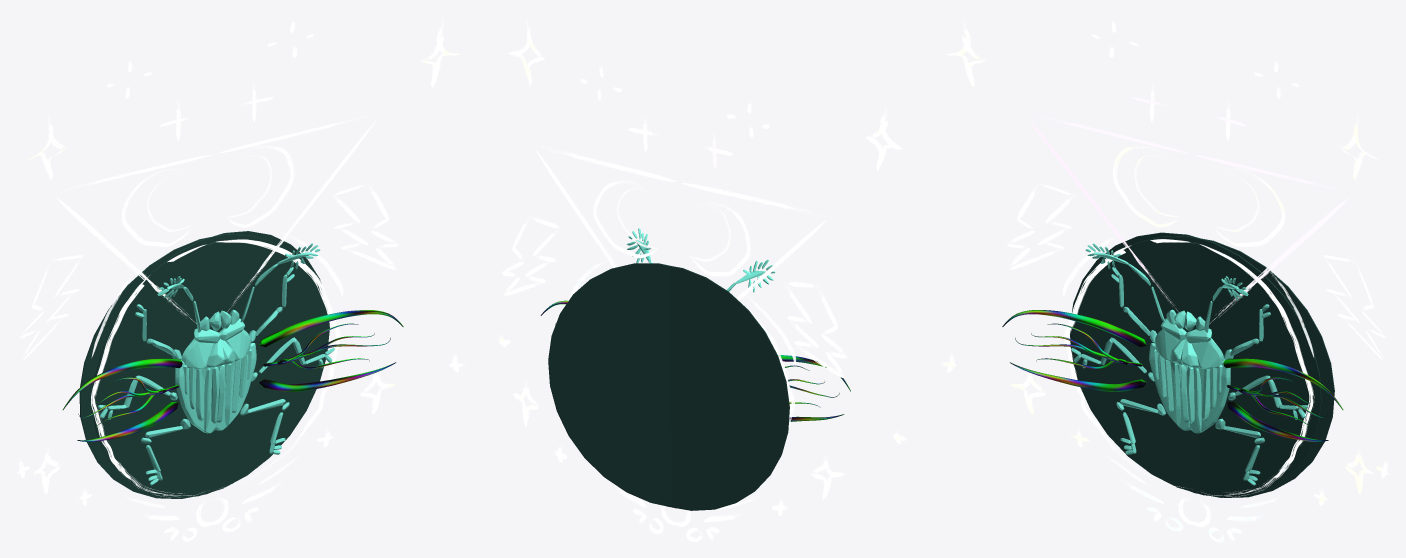
Rendered from neon beetle.gltf.
3 renders of one model, left to right at view 1: azimuth 30°, elevation 25°; view 2: azimuth 150°, elevation 25°; view 3: azimuth 330°, elevation 25°, orthographic. The views are drawn at different scales.
Parts seen in each view (by area): view 1: brush_MatteHull_g0_b0_0, brush_Light_g0_b0_5, brush_Comet_g0_b0_4; view 2: brush_MatteHull_g0_b0_0, brush_Light_g0_b0_5, brush_Comet_g0_b0_4; view 3: brush_MatteHull_g0_b0_0, brush_Light_g0_b0_5, brush_Comet_g0_b0_4.
Part boxes in pixels (left/top/right/bottom): brush_MatteHull_g0_b0_0: left=79, top=231, right=334, bottom=498; brush_Light_g0_b0_5: left=16, top=17, right=466, bottom=542; brush_Comet_g0_b0_4: left=62, top=310, right=403, bottom=441; brush_MatteHull_g0_b0_0: left=548, top=228, right=789, bottom=510; brush_Light_g0_b0_5: left=498, top=16, right=908, bottom=542; brush_Comet_g0_b0_4: left=540, top=300, right=850, bottom=421; brush_MatteHull_g0_b0_0: left=1070, top=232, right=1334, bottom=497; brush_Light_g0_b0_5: left=939, top=16, right=1389, bottom=542; brush_Comet_g0_b0_4: left=1002, top=310, right=1343, bottom=441.
Size of the model in its own units: 2.55 by 2.69 by 0.4557.
Materials: 4 (3 with a texture image).
